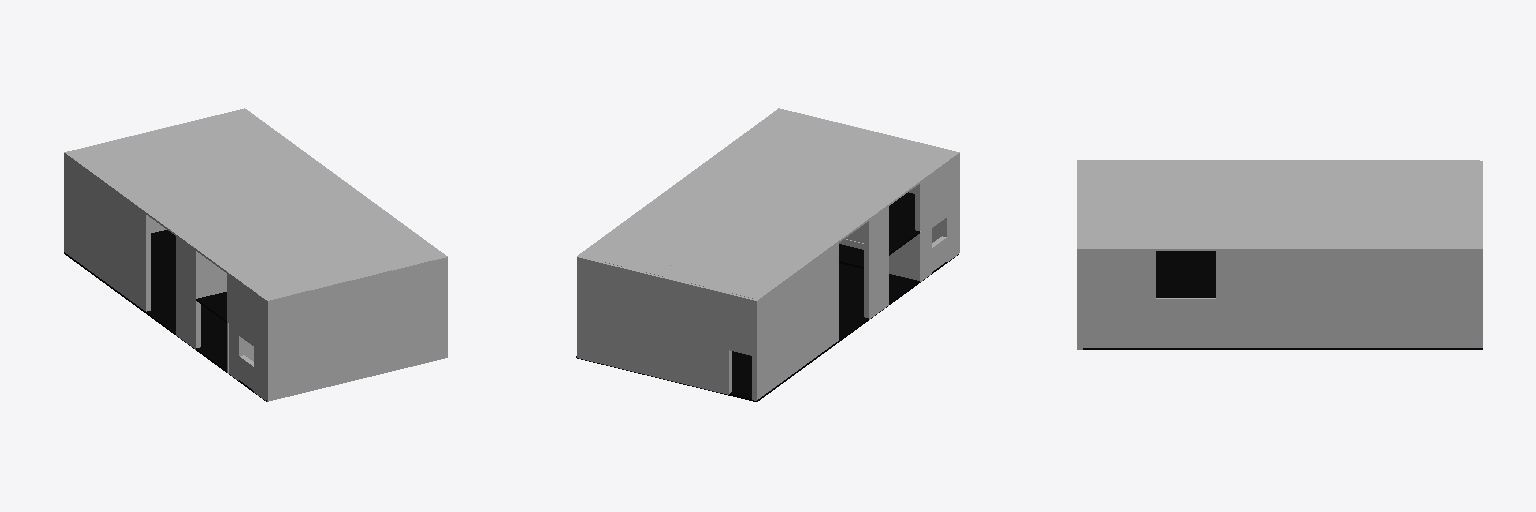
File: aptodefinitivo.obj
The picture shows the model from 3 angles: view 1: azimuth 30°, elevation 25°; view 2: azimuth 150°, elevation 25°; view 3: azimuth 270°, elevation 25°; orthographic projection.
Parts seen in each view (by area): view 1: Apartamento TechoYsuelo pCube103, Apartamento LoftParedes pCube8, Apartamento LoftParedes pCube56, Apartamento LoftParedes pCube104, Apartamento LoftParedes pCube61, Apartamento pCube50 TechoYsuelo, Apartamento LoftParedes pCube57, Apartamento LoftParedes pCube6, Apartamento LoftParedes pCube95, Apartamento LoftParedes pCube58, Apartamento LoftParedes pCube97, Apartamento LoftParedes pCube7; view 2: Apartamento TechoYsuelo pCube103, Apartamento LoftParedes pCube60, Apartamento pCube2 LoftParedes, Apartamento LoftParedes pCube104, Apartamento LoftParedes pCube61, Apartamento pCube50 TechoYsuelo, Apartamento LoftParedes pCube57, Apartamento TechoYsuelo pCube55, Apartamento LoftParedes pCube105, Apartamento LoftParedes pCube58, Apartamento LoftParedes pCube6, Apartamento LoftParedes pCube51 (+1 smaller); view 3: Apartamento TechoYsuelo pCube103, Apartamento LoftParedes pCube30, Apartamento LoftParedes pCube59, Apartamento LoftParedes pCube96, Apartamento TechoYsuelo pCube55, Apartamento pCube50 TechoYsuelo.
Boxes of the visible parts, x1,y1,x2,y2 form: Apartamento TechoYsuelo pCube103: [66, 109, 447, 300]; Apartamento LoftParedes pCube8: [266, 308, 447, 401]; Apartamento LoftParedes pCube56: [267, 257, 445, 351]; Apartamento LoftParedes pCube104: [64, 202, 150, 311]; Apartamento LoftParedes pCube61: [64, 151, 150, 262]; Apartamento pCube50 TechoYsuelo: [64, 230, 266, 401]; Apartamento LoftParedes pCube57: [227, 272, 266, 350]; Apartamento LoftParedes pCube6: [176, 286, 200, 349]; Apartamento LoftParedes pCube95: [196, 251, 226, 298]; Apartamento LoftParedes pCube58: [176, 235, 195, 298]; Apartamento LoftParedes pCube97: [254, 343, 265, 400]; Apartamento LoftParedes pCube7: [229, 324, 243, 380]; Apartamento TechoYsuelo pCube103: [578, 108, 959, 301]; Apartamento LoftParedes pCube60: [577, 256, 729, 344]; Apartamento pCube2 LoftParedes: [577, 307, 731, 394]; Apartamento LoftParedes pCube104: [752, 290, 838, 400]; Apartamento LoftParedes pCube61: [752, 243, 838, 351]; Apartamento pCube50 TechoYsuelo: [576, 254, 958, 401]; Apartamento LoftParedes pCube57: [915, 153, 959, 230]; Apartamento TechoYsuelo pCube55: [839, 192, 919, 268]; Apartamento LoftParedes pCube105: [729, 293, 751, 355]; Apartamento LoftParedes pCube58: [864, 205, 888, 269]; Apartamento LoftParedes pCube6: [864, 256, 888, 319]; Apartamento LoftParedes pCube51: [889, 231, 921, 281]; Apartamento TechoYsuelo pCube103: [1077, 160, 1479, 250]; Apartamento LoftParedes pCube30: [1083, 298, 1476, 347]; Apartamento LoftParedes pCube59: [1216, 251, 1476, 298]; Apartamento LoftParedes pCube96: [1083, 251, 1155, 299]; Apartamento TechoYsuelo pCube55: [1156, 251, 1215, 297]; Apartamento pCube50 TechoYsuelo: [1083, 348, 1482, 349].
Bounding box in the file's own units: 11.34 × 6.15 × 21.99.